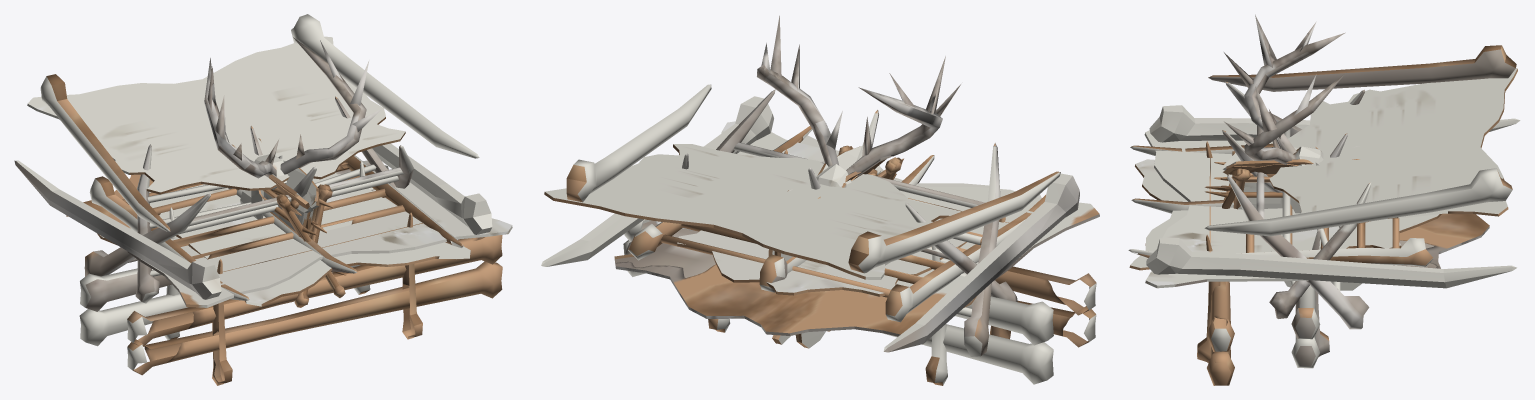
The model's file is Vehicles_CarNormal_Bone_o.fbx.
The picture shows the model from 3 angles, left to right: view 1: azimuth 30°, elevation 25°; view 2: azimuth 150°, elevation 25°; view 3: azimuth 270°, elevation 25°; orthographic projection. The views are drawn at different scales.
Parts seen in each view (by area): view 1: normal_bone_trunk_armor, normal_bone_hood_armor, normal_bone_roofrack, normal_bone_bullbar_armor, normal_bone_windshield_armor, normal_bone_rear_windshield_armor, normal_bone_rear_right_window_armor, normal_bone_rear_left_door_armor, normal_bone_rear_left_window_armor; view 2: normal_bone_trunk_armor, normal_bone_hood_armor, normal_bone_bullbar_armor, normal_bone_roofrack, normal_bone_windshield_armor, normal_bone_rear_windshield_armor, normal_bone_front_left_door_armor, normal_bone_rear_left_door_armor; view 3: normal_bone_trunk_armor, normal_bone_hood_armor, normal_bone_roofrack, normal_bone_bullbar_armor, normal_bone_windshield_armor, normal_bone_rear_windshield_armor, normal_bone_rear_left_window_armor, normal_bone_front_right_door_armor, normal_bone_rear_left_door_armor, normal_bone_front_left_door_armor, normal_bone_front_left_window_armor.
Boxes of the visible parts, box(x1,y1,x2,y2) form: normal_bone_trunk_armor: box(27, 14, 502, 385); normal_bone_hood_armor: box(14, 143, 512, 307); normal_bone_roofrack: box(89, 155, 470, 306); normal_bone_bullbar_armor: box(79, 37, 382, 346); normal_bone_windshield_armor: box(84, 145, 413, 276); normal_bone_rear_windshield_armor: box(135, 96, 395, 303); normal_bone_rear_right_window_armor: box(236, 189, 345, 297); normal_bone_rear_left_door_armor: box(271, 160, 319, 224); normal_bone_rear_left_window_armor: box(294, 184, 333, 307); normal_bone_trunk_armor: box(544, 84, 1096, 347); normal_bone_hood_armor: box(541, 96, 1099, 352); normal_bone_bullbar_armor: box(623, 15, 1053, 385); normal_bone_roofrack: box(628, 126, 1045, 322); normal_bone_windshield_armor: box(625, 89, 1000, 356); normal_bone_rear_windshield_armor: box(682, 153, 1017, 301); normal_bone_front_left_door_armor: box(775, 173, 875, 348); normal_bone_rear_left_door_armor: box(817, 146, 880, 331); normal_bone_trunk_armor: box(1197, 45, 1517, 385); normal_bone_hood_armor: box(1144, 105, 1520, 288); normal_bone_roofrack: box(1128, 143, 1441, 270); normal_bone_bullbar_armor: box(1224, 14, 1345, 368); normal_bone_windshield_armor: box(1222, 81, 1369, 329); normal_bone_rear_windshield_armor: box(1269, 89, 1371, 318); normal_bone_rear_left_window_armor: box(1205, 168, 1282, 208); normal_bone_front_right_door_armor: box(1226, 146, 1361, 290); normal_bone_rear_left_door_armor: box(1222, 159, 1313, 175); normal_bone_front_left_door_armor: box(1226, 159, 1359, 174); normal_bone_front_left_window_armor: box(1221, 169, 1277, 209).
Bounding box in the file's own units: 0.9495 × 0.6559 × 0.8553.
